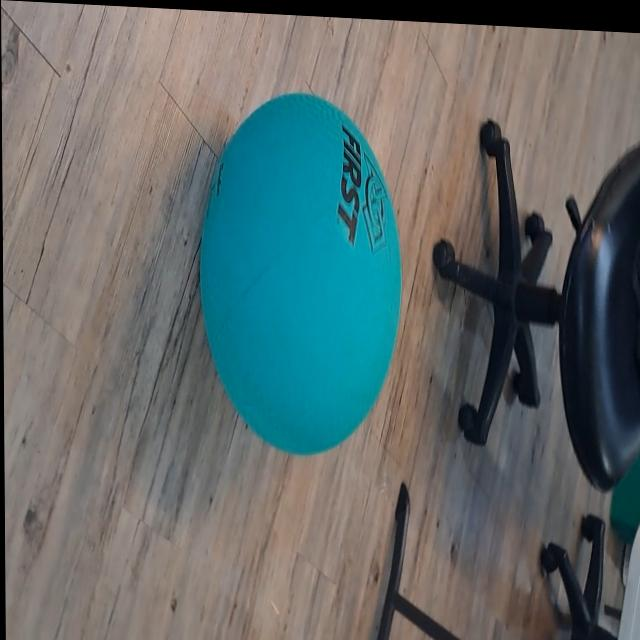ALGAE: (197, 85, 404, 462)
